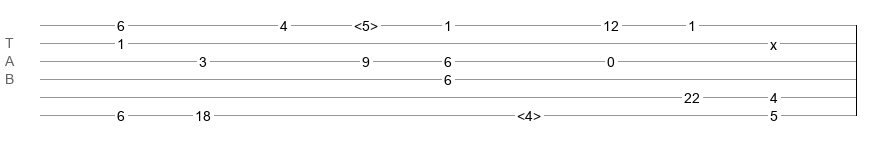0: (607, 54, 615, 64)
1: (117, 36, 125, 46), (444, 18, 452, 28), (688, 18, 696, 28)
12: (603, 18, 619, 28)
18: (195, 108, 211, 118)
22: (684, 90, 700, 100)
3: (199, 54, 207, 64)
4: (280, 18, 288, 28), (770, 90, 778, 100)
5: (770, 108, 778, 118)
6: (117, 108, 125, 118), (117, 18, 125, 28), (444, 72, 452, 82), (444, 54, 452, 64)
9: (362, 54, 370, 64)
harmonic: (354, 18, 378, 28), (517, 108, 541, 118)
x: (770, 37, 777, 45)
